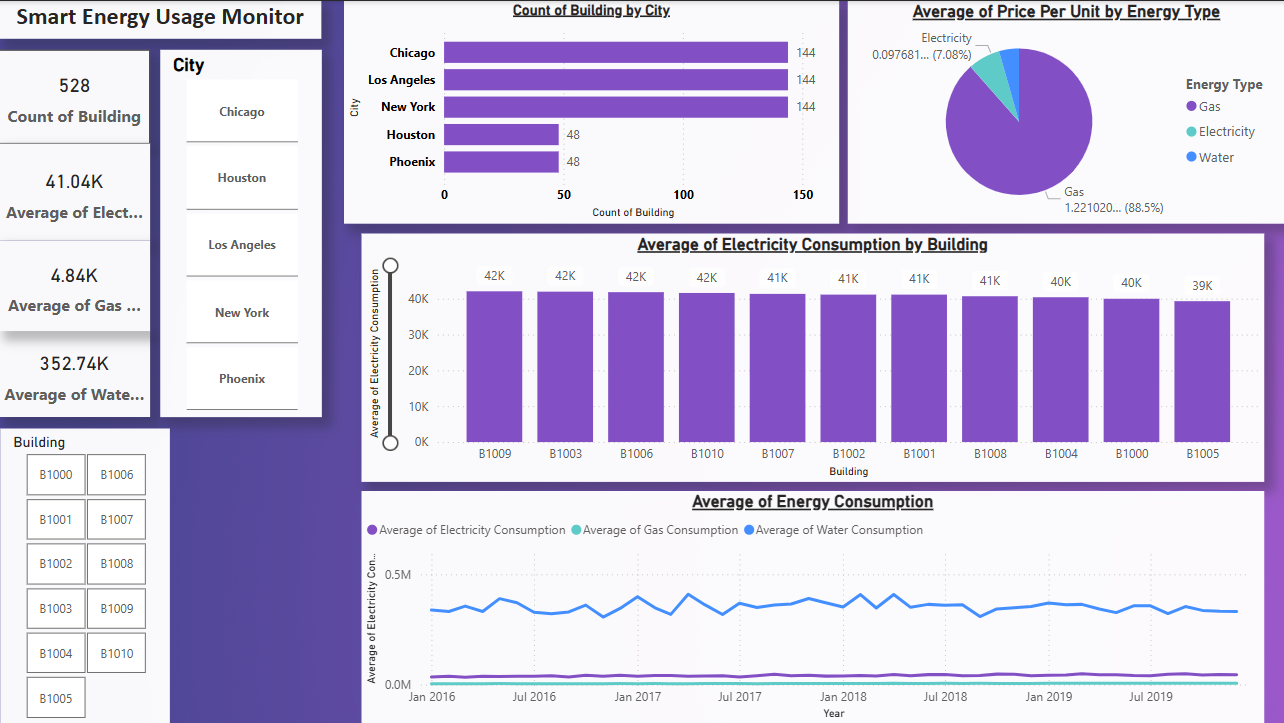

The page's visual inventory and layout, read from the dashboard file:
{"tool":"powerbi","page":{"name":"Smart Energy Usage Monitor","canvas":[1280,720],"ordinal":4},"visuals":[{"type":"textbox","title":"Smart Energy Usage Monitor","box":[0,0,320.9,37.3],"z":0},{"type":"card","fields":{"Values":["CountNonNull(Energy Consumptions.Building)"]},"box":[0,48.5,150.5,93.3],"z":1000},{"type":"card","fields":{"Values":["Avg(Energy Consumptions.Water Consumption)"]},"box":[0,328.4,150.5,85.8],"z":2000},{"type":"card","fields":{"Values":["Avg(Energy Consumptions.Electricity Consumption)"]},"box":[0,141.8,150.5,97],"z":3000},{"type":"card","fields":{"Values":["Avg(Energy Consumptions.Gas Consumption)"]},"box":[0,238.8,150.5,89.6],"z":4000},{"type":"barChart","fields":{"Category":["Building Master.City"],"Y":["CountNonNull(Energy Consumptions.Building)"]},"box":[343.3,0,492.6,221.4],"z":5000},{"type":"pieChart","fields":{"Category":["Rates.Energy Type"],"Y":["Avg(Rates.Price Per Unit)"]},"box":[844.6,0,435.4,221.4],"z":6000},{"type":"lineStackedColumnComboChart","fields":{"Category":["Building Master.Building"],"Y":["Avg(Energy Consumptions.Electricity Consumption)"]},"box":[360.7,231.4,898.1,247.5],"z":8000},{"type":"slicer","fields":{"Values":["Building Master.City"]},"box":[160.5,48.5,160.5,365.7],"z":9000},{"type":"slicer","fields":{"Values":["Building Master.Building"]},"box":[1.2,425.4,169.2,294.8],"z":10000},{"type":"lineChart","title":"Average of Energy Consumption","fields":{"Y":["Avg(Energy Consumptions.Electricity Consumption)","Avg(Energy Consumptions.Gas Consumption)","Avg(Energy Consumptions.Water Consumption)"],"Category":["Energy Consumptions.Date.Variation.Date Hierarchy.Year","Energy Consumptions.Date.Variation.Date Hierarchy.Quarter","Energy Consumptions.Date.Variation.Date Hierarchy.Month","Energy Consumptions.Date.Variation.Date Hierarchy.Day"]},"box":[360.7,487.6,898.1,232.6],"z":10001}]}

Visuals, with their boxes in screenshot pixels (x1, y1, x2, y2), scaled from the page's 1280x720 canvas onto the 1284x723 screenshot:
"Smart Energy Usage Monitor" textbox: Rect(0, 0, 322, 37)
card - CountNonNull(Energy Consumptions.Building): Rect(0, 49, 151, 142)
card - Avg(Energy Consumptions.Water Consumption): Rect(0, 330, 151, 416)
card - Avg(Energy Consumptions.Electricity Consumption): Rect(0, 142, 151, 240)
card - Avg(Energy Consumptions.Gas Consumption): Rect(0, 240, 151, 330)
barChart - Building Master.City x CountNonNull(Energy Consumptions.Building): Rect(344, 0, 839, 222)
pieChart - Rates.Energy Type x Avg(Rates.Price Per Unit): Rect(847, 0, 1283, 222)
lineStackedColumnComboChart - Building Master.Building x Avg(Energy Consumptions.Electricity Consumption): Rect(362, 232, 1263, 481)
slicer - Building Master.City: Rect(161, 49, 322, 416)
slicer - Building Master.Building: Rect(1, 427, 171, 722)
"Average of Energy Consumption" lineChart: Rect(362, 490, 1263, 722)
